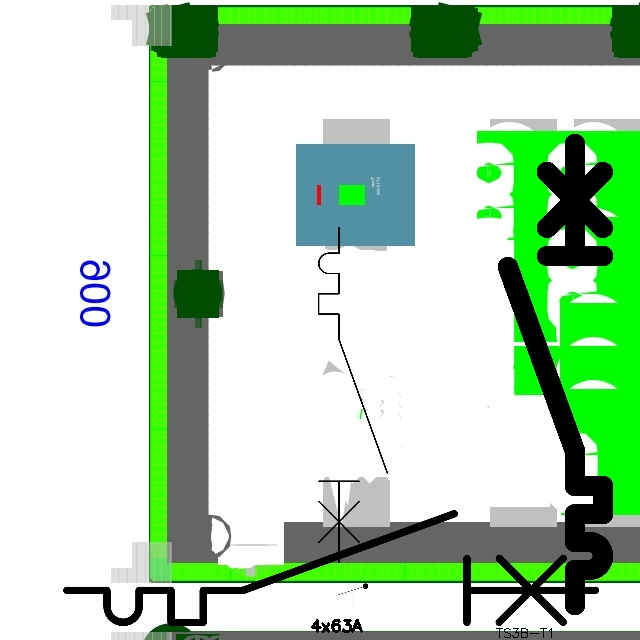interruptor_termomagnetico: (53, 500, 609, 636), (496, 132, 615, 617), (310, 219, 396, 571)
